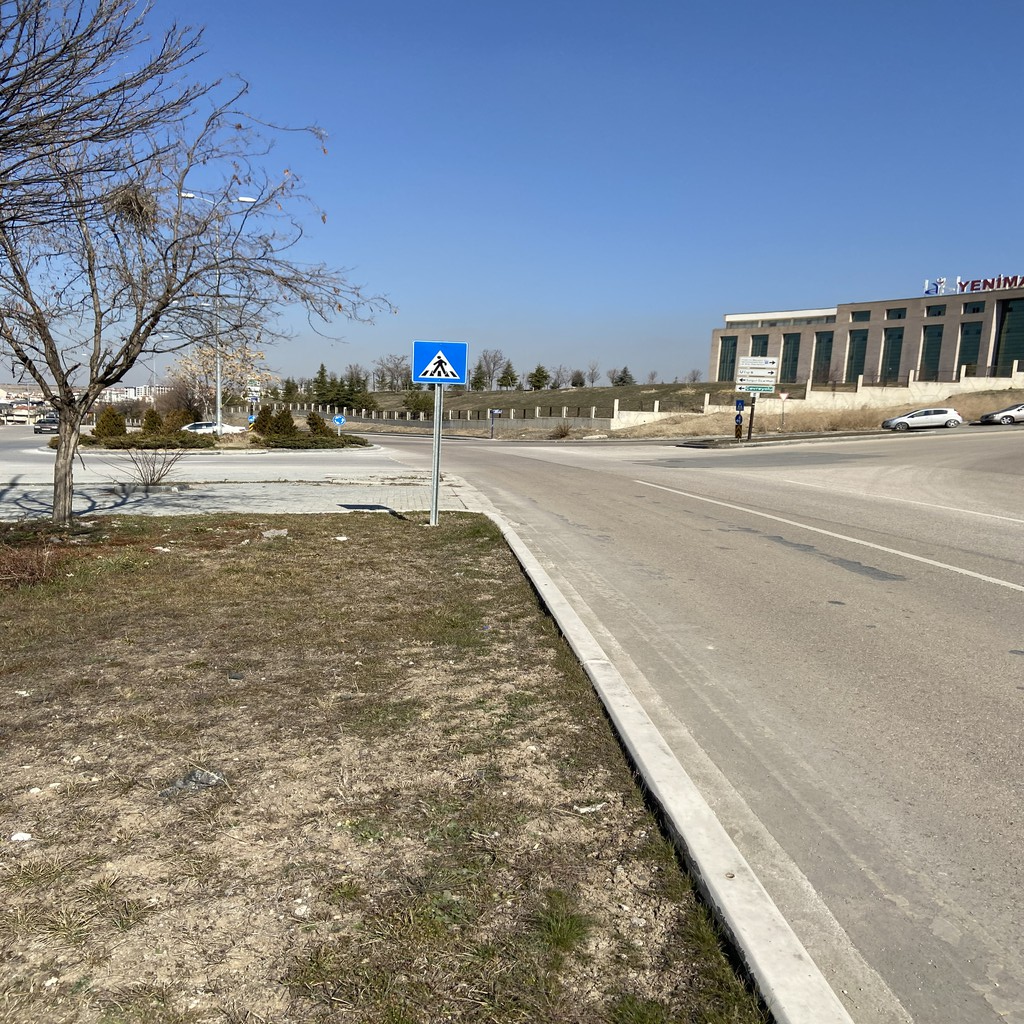Yaya Gecidi: (409, 338, 470, 385)
